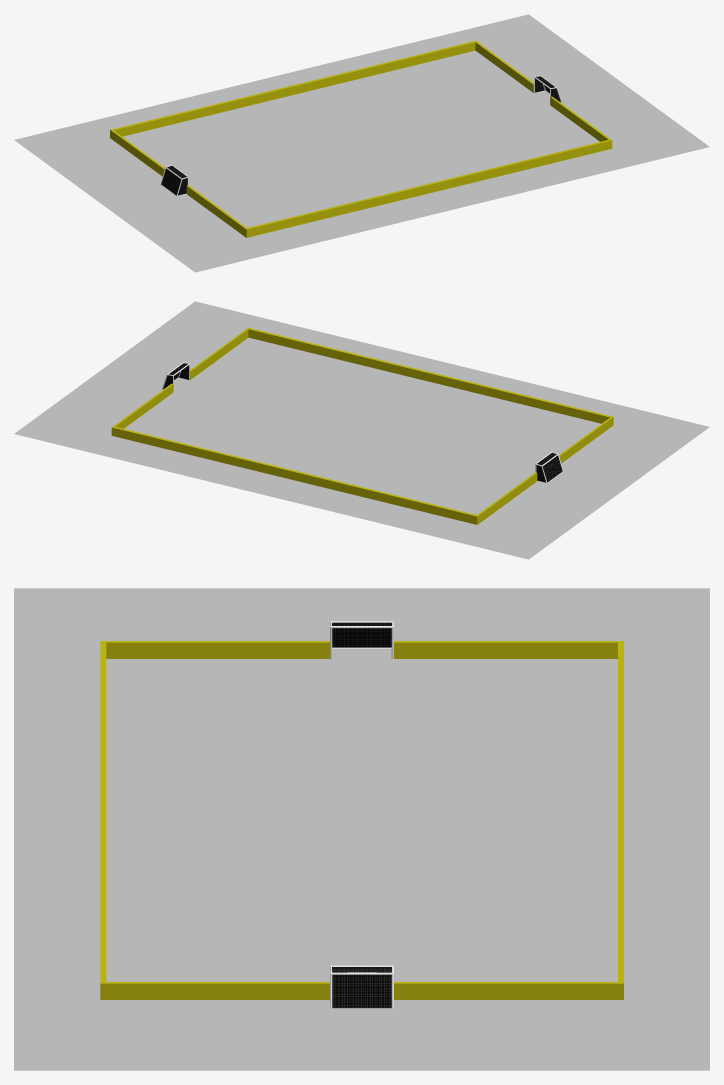
Rendered from Football Stadium2.fbx.
3 views of the same model, one above another, from view 1: azimuth 30°, elevation 25°; view 2: azimuth 150°, elevation 25°; view 3: azimuth 270°, elevation 25° (orthographic). The views are drawn at different scales.
Parts seen in each view (by area): view 1: Football field, Football field.001, Fence_box.005, Fence_box.002, Fence_box, Fence_box.001, goalpost.001, Fence_box.004, Fence_box.003; view 2: Football field, Football field.001, Fence_box.002, Fence_box.005, Fence_box.003, Fence_box.004, Fence_box.001, goalpost.001, Fence_box; view 3: Football field, Football field.001, Fence_box.001, Fence_box, Fence_box.003, Fence_box.004, goalpost.002, Fence_box.005, Fence_box.002, goalpost.001.
Part boxes in pixels (x1=…): Football field: x1=54, y1=29, x2=669, y2=257; Football field.001: x1=14, y1=14, x2=709, y2=272; Fence_box.005: x1=247, y1=139, x2=612, y2=237; Fence_box.002: x1=110, y1=41, x2=475, y2=138; Fence_box: x1=186, y1=185, x2=248, y2=237; Fence_box.001: x1=474, y1=40, x2=533, y2=92; goalpost.001: x1=160, y1=165, x2=188, y2=196; Fence_box.004: x1=550, y1=96, x2=610, y2=141; Fence_box.003: x1=111, y1=130, x2=164, y2=176; Football field: x1=54, y1=316, x2=669, y2=544; Football field.001: x1=14, y1=301, x2=709, y2=559; Fence_box.002: x1=113, y1=427, x2=478, y2=524; Fence_box.005: x1=247, y1=327, x2=611, y2=423; Fence_box.003: x1=477, y1=472, x2=537, y2=523; Fence_box.004: x1=190, y1=328, x2=248, y2=379; Fence_box.001: x1=111, y1=383, x2=173, y2=436; goalpost.001: x1=535, y1=452, x2=563, y2=483; Fence_box: x1=559, y1=416, x2=613, y2=463; Football field: x1=54, y1=615, x2=669, y2=1042; Football field.001: x1=14, y1=588, x2=709, y2=1070; Fence_box.001: x1=394, y1=982, x2=623, y2=999; Fence_box: x1=100, y1=641, x2=330, y2=658; Fence_box.003: x1=394, y1=641, x2=617, y2=658; Fence_box.004: x1=106, y1=982, x2=329, y2=999; goalpost.002: x1=330, y1=965, x2=393, y2=1009; Fence_box.005: x1=100, y1=642, x2=106, y2=999; Fence_box.002: x1=618, y1=641, x2=623, y2=981; goalpost.001: x1=330, y1=621, x2=393, y2=659.
Bounding box in the file's own units: 8556 × 337 × 5217.
